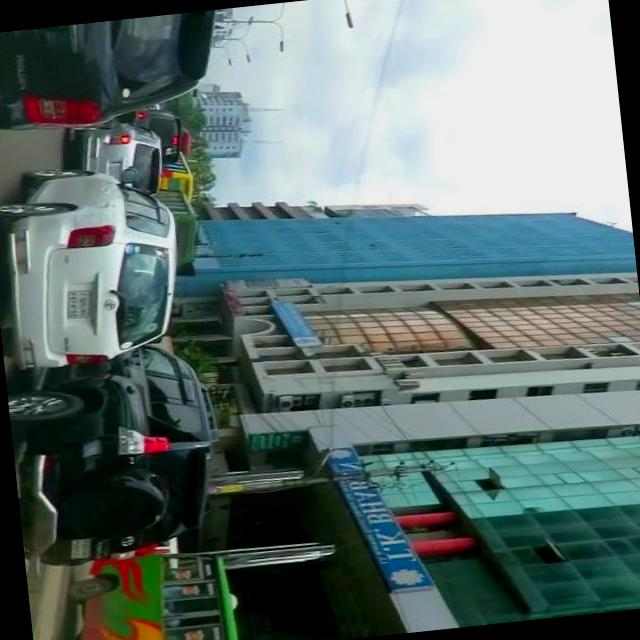bus: (51, 544, 251, 640), (158, 186, 205, 267), (159, 154, 198, 204)
car: (7, 339, 236, 575), (0, 155, 194, 373), (0, 11, 231, 138), (64, 113, 172, 205)
truck: (114, 104, 190, 171)
